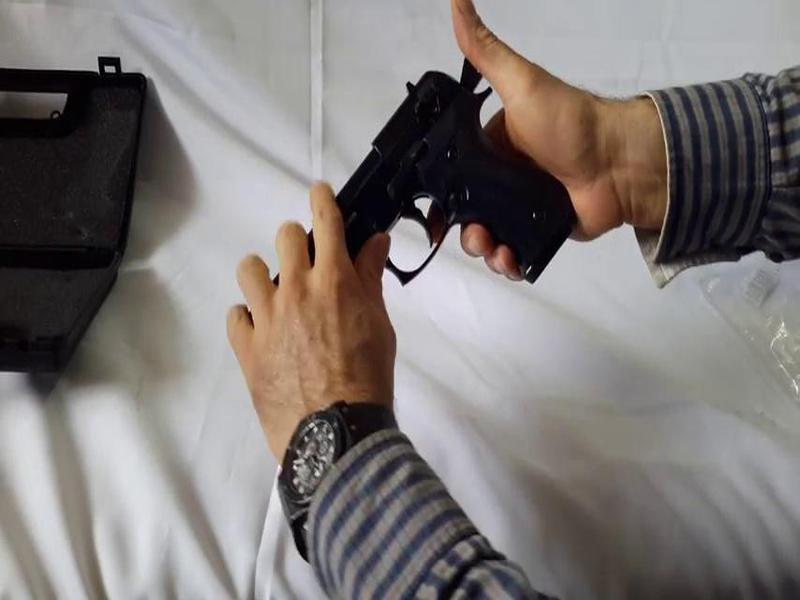Pistola: (278, 44, 590, 353)
